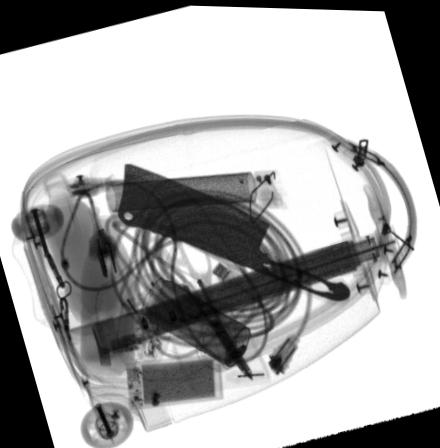Knife: (117, 160, 350, 299)
Powerbank: (127, 354, 224, 409)
Scissors: (156, 226, 253, 379)
